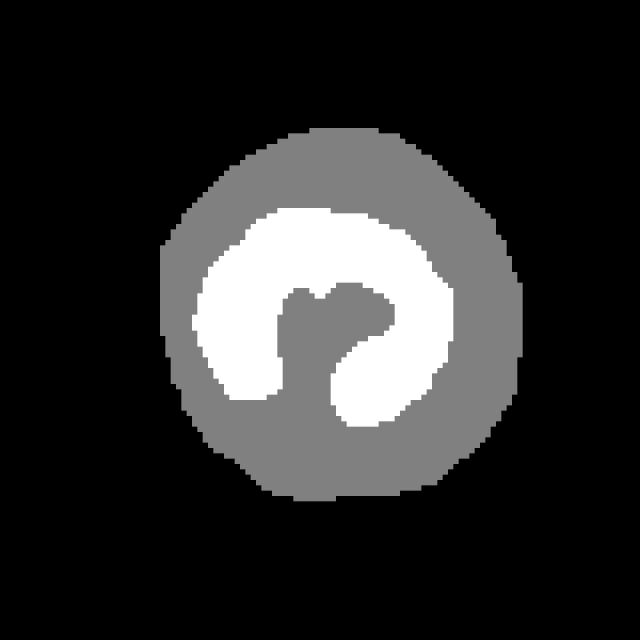WBC: (138, 112, 538, 512)
